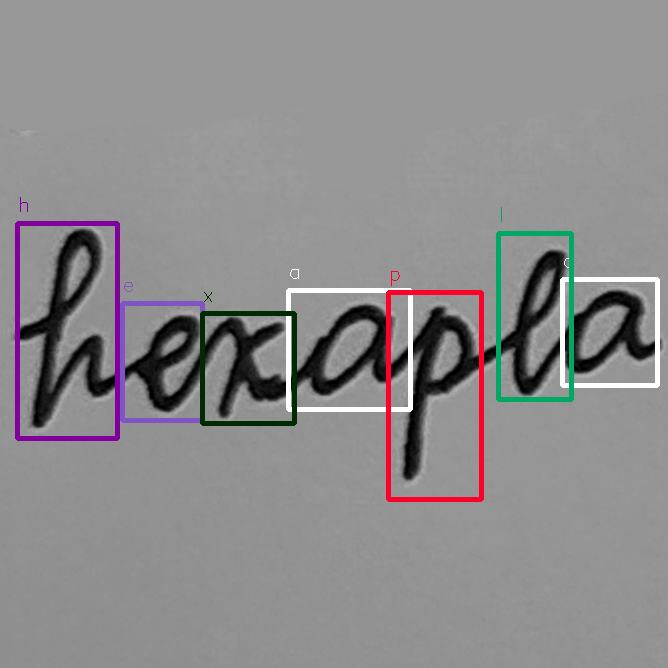a: (559, 285, 665, 377), (302, 297, 394, 399)
e: (136, 308, 202, 418)
h: (28, 225, 118, 431)
l: (506, 245, 572, 398)
p: (396, 301, 478, 486)
x: (206, 312, 290, 424)
